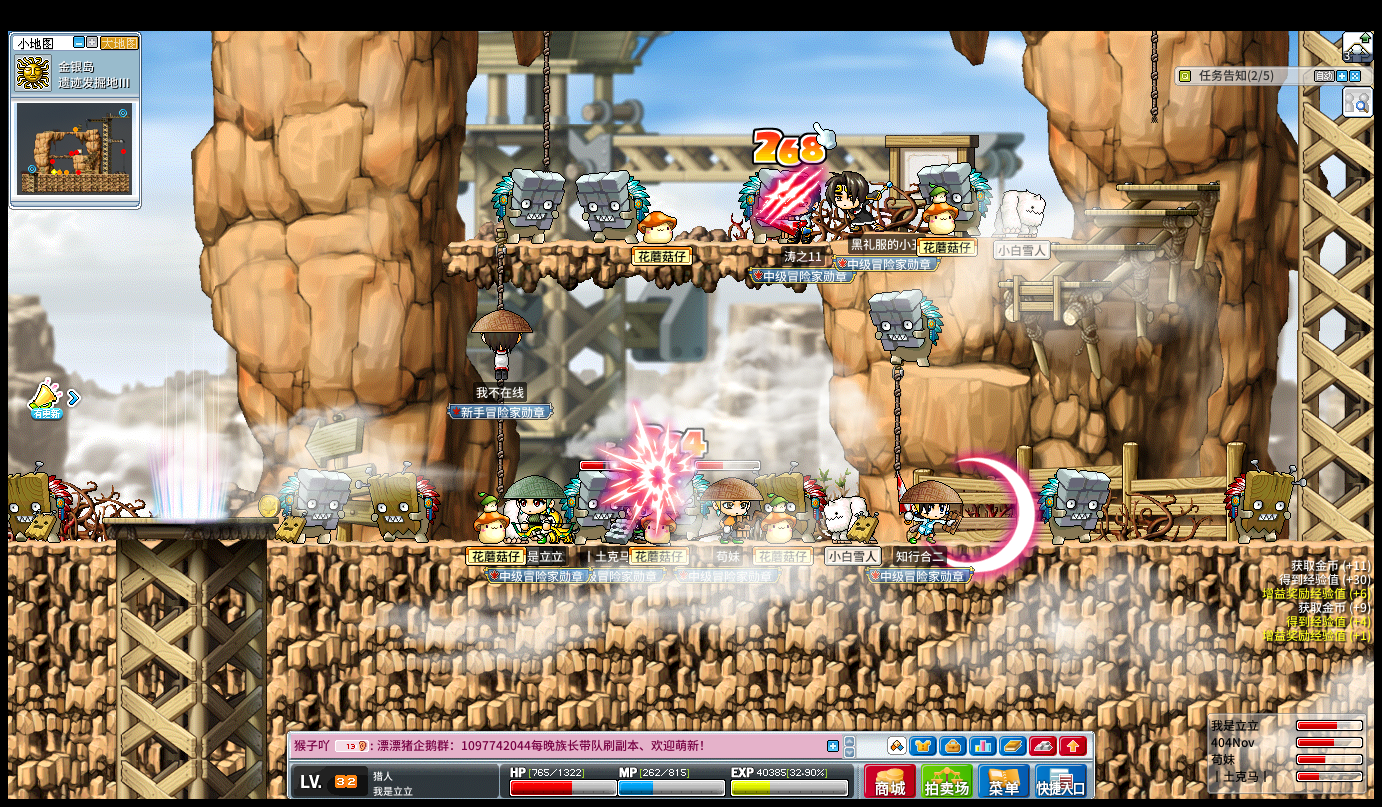floor: (268, 537, 1374, 549), (448, 239, 816, 251), (927, 364, 1031, 386), (101, 515, 277, 525), (7, 539, 117, 550), (1050, 242, 1157, 252), (1083, 207, 1199, 215), (996, 281, 1104, 289), (1117, 184, 1220, 191)
monster: (357, 463, 440, 543), (1224, 464, 1301, 543), (915, 161, 991, 238), (1037, 466, 1111, 544), (868, 290, 942, 366), (277, 468, 352, 542), (491, 169, 564, 245), (576, 169, 648, 244), (757, 462, 824, 542), (4, 462, 70, 542), (735, 167, 802, 243), (560, 472, 604, 542)
rope: (892, 358, 906, 481), (542, 29, 551, 173), (492, 233, 507, 309), (1148, 31, 1157, 122), (495, 419, 502, 491)
